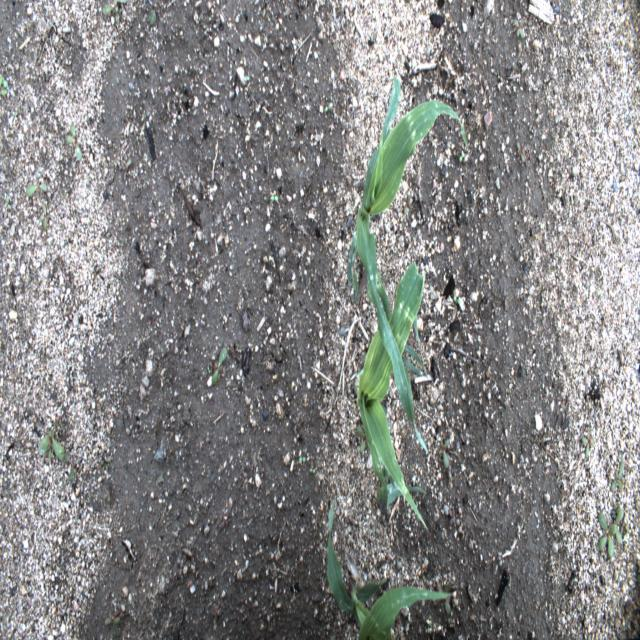crop: (347, 76, 468, 456), (353, 260, 429, 531), (326, 500, 456, 640)
weed: (38, 426, 66, 466), (597, 510, 617, 557), (100, 0, 128, 28), (210, 346, 228, 387), (65, 123, 82, 163), (610, 506, 625, 551), (104, 607, 122, 638), (355, 424, 373, 454), (436, 437, 451, 469), (610, 462, 624, 493), (38, 202, 52, 231), (580, 436, 594, 462), (25, 182, 49, 196), (512, 16, 525, 41), (0, 76, 9, 99), (271, 195, 278, 201)
